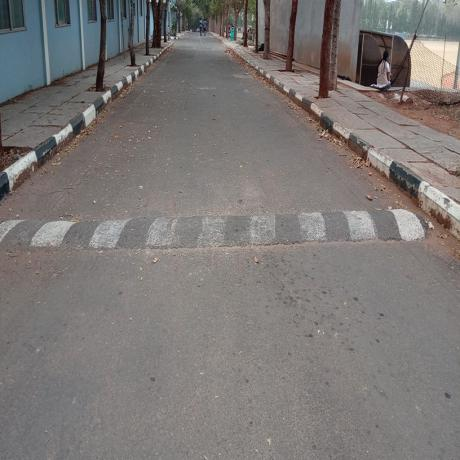Speed Bump: (1, 206, 430, 245)
